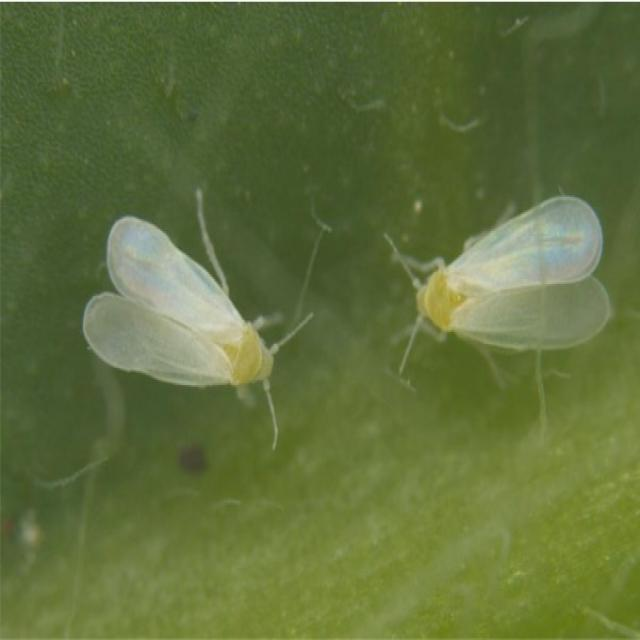Whitefly: (71, 175, 325, 455), (374, 188, 616, 397)
